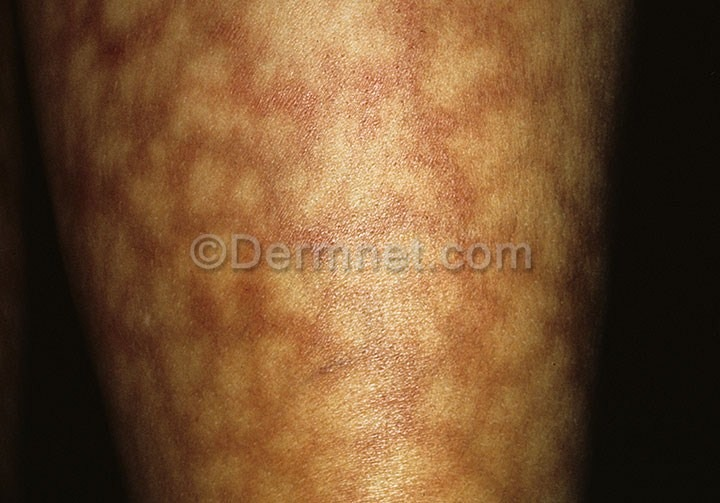Melasma: (36, 4, 578, 230), (94, 277, 558, 497)
